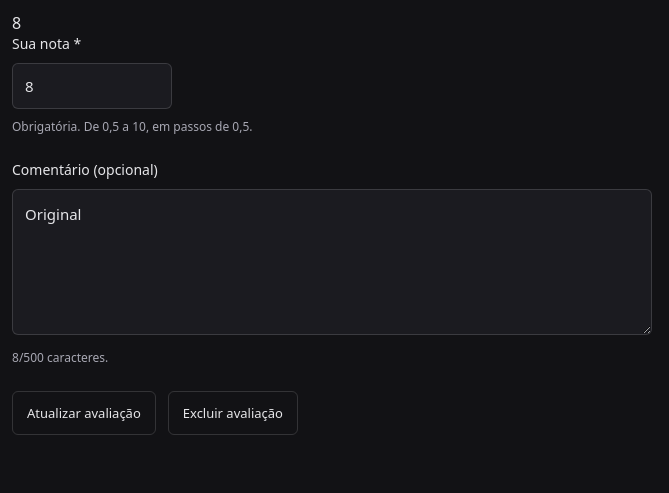
Test: restaura a nota persistida após falha de edição e mantém o rascunho para tentar novamente
Step 1. Replace the text in the number field labelled "Sua nota *" with "7.5" → (92, 86), box left=12, top=63, right=172, bottom=109
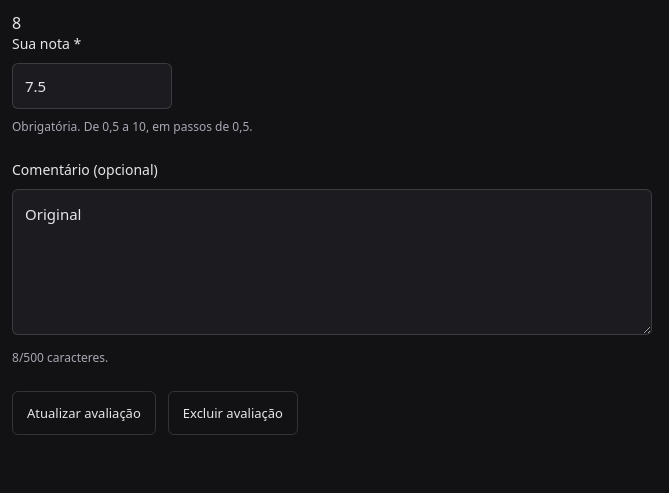
Step 2. Replace the text in the text box labelled "Comentário (opcional)" with "Novo comentário" → (332, 262), box left=12, top=189, right=652, bottom=335
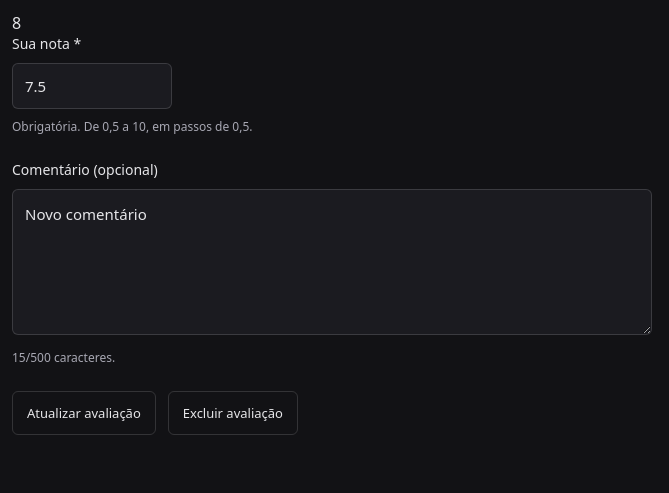
Step 3. Click the button "Atualizar avaliação" → (84, 413), box left=12, top=391, right=156, bottom=435
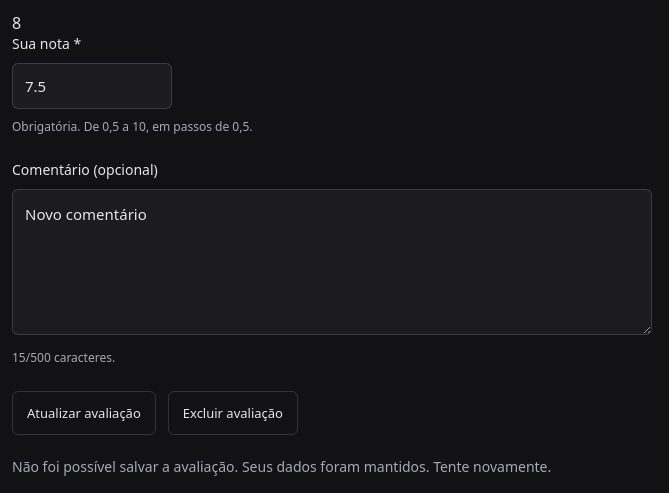
Expected: the text named "Nota salva" reads "8", left=12, top=12, right=21, bottom=34
Expected: the message shows "Seus dados foram mantidos", left=12, top=457, right=551, bottom=476
Step 4. Click the button "Atualizar avaliação" → (84, 413), box left=12, top=391, right=156, bottom=435
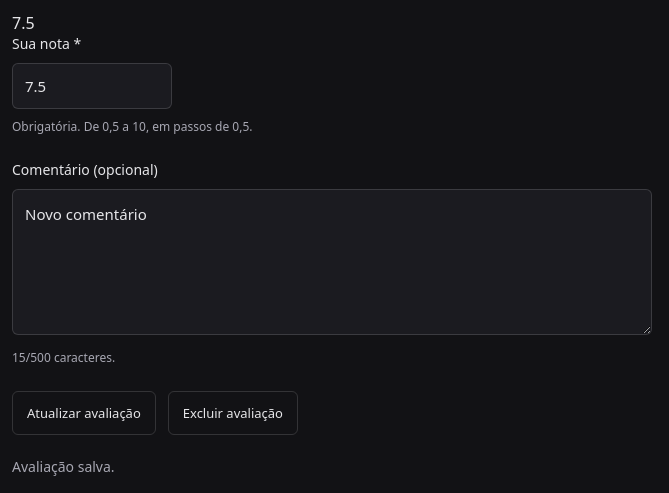
Expected: the message reads "Avaliação salva.", left=12, top=457, right=115, bottom=476
Expected: the text named "Nota salva" reads "7.5", left=12, top=12, right=35, bottom=34
